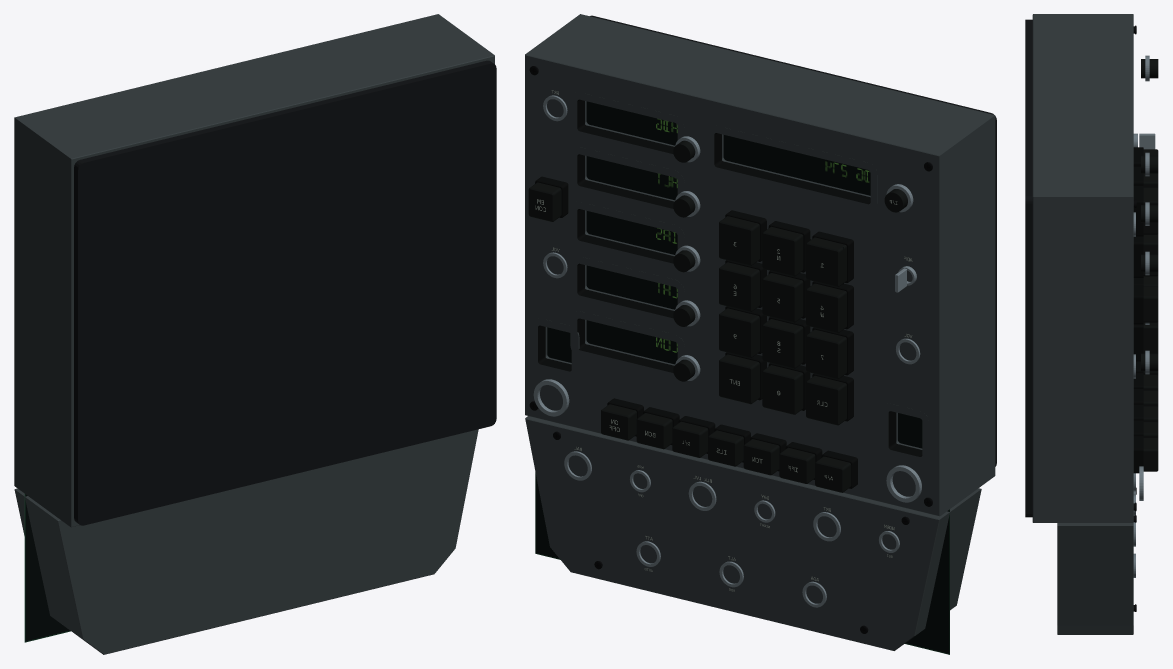
Rendered from MFDStudio.obj.
The picture shows the model from 3 angles, left to right: view 1: azimuth 30°, elevation 25°; view 2: azimuth 150°, elevation 25°; view 3: azimuth 270°, elevation 25°; orthographic projection. The views are drawn at different scales.
Visible parts, largest first — view 1: MFDStudioBody, MFDStudioUfcHudBody, MFDStudioScreen; view 2: MFDStudioBody, MFDStudioUfcHudBody, MFDStudioScreen, MFDStudioKeys0, MFDStudioKeys1, MFDStudioKeys2, MFDStudioUfcHudTrim, MFDStudioKeys3; view 3: MFDStudioBody, MFDStudioUfcHudBody, MFDStudioKeys2, MFDStudioKeys0, MFDStudioKeys1, MFDStudioKeys3, MFDStudioUfcHudTrim.
Part boxes in pixels (x1,y1,x2,y2): MFDStudioBody: (14, 14, 496, 527); MFDStudioUfcHudBody: (14, 429, 478, 654); MFDStudioScreen: (24, 494, 70, 642); MFDStudioBody: (525, 14, 996, 516); MFDStudioUfcHudBody: (525, 416, 981, 650); MFDStudioScreen: (535, 101, 949, 654); MFDStudioKeys0: (719, 210, 853, 379); MFDStudioKeys1: (673, 136, 853, 425); MFDStudioKeys2: (601, 355, 857, 492); MFDStudioUfcHudTrim: (564, 451, 899, 607); MFDStudioKeys3: (528, 176, 913, 221); MFDStudioBody: (1025, 14, 1155, 522); MFDStudioUfcHudBody: (1057, 523, 1133, 634); MFDStudioKeys2: (1133, 350, 1158, 473); MFDStudioKeys0: (1133, 147, 1158, 277); MFDStudioKeys1: (1133, 152, 1158, 361); MFDStudioKeys3: (1133, 55, 1158, 324); MFDStudioUfcHudTrim: (1133, 473, 1135, 577).
Bounding box in the file's own units: 0.3 × 0.35 × 0.0922.
Materials: 11 (1 with a texture image).
